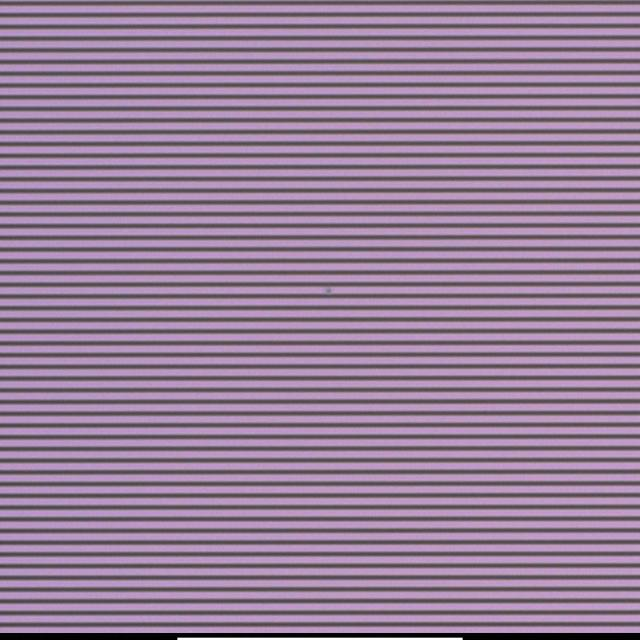03_intrusion: (321, 281, 338, 304)
